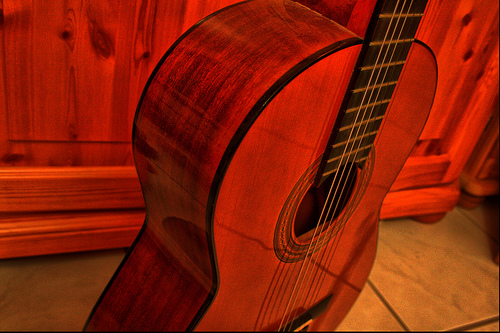guitar: (83, 1, 440, 333)
